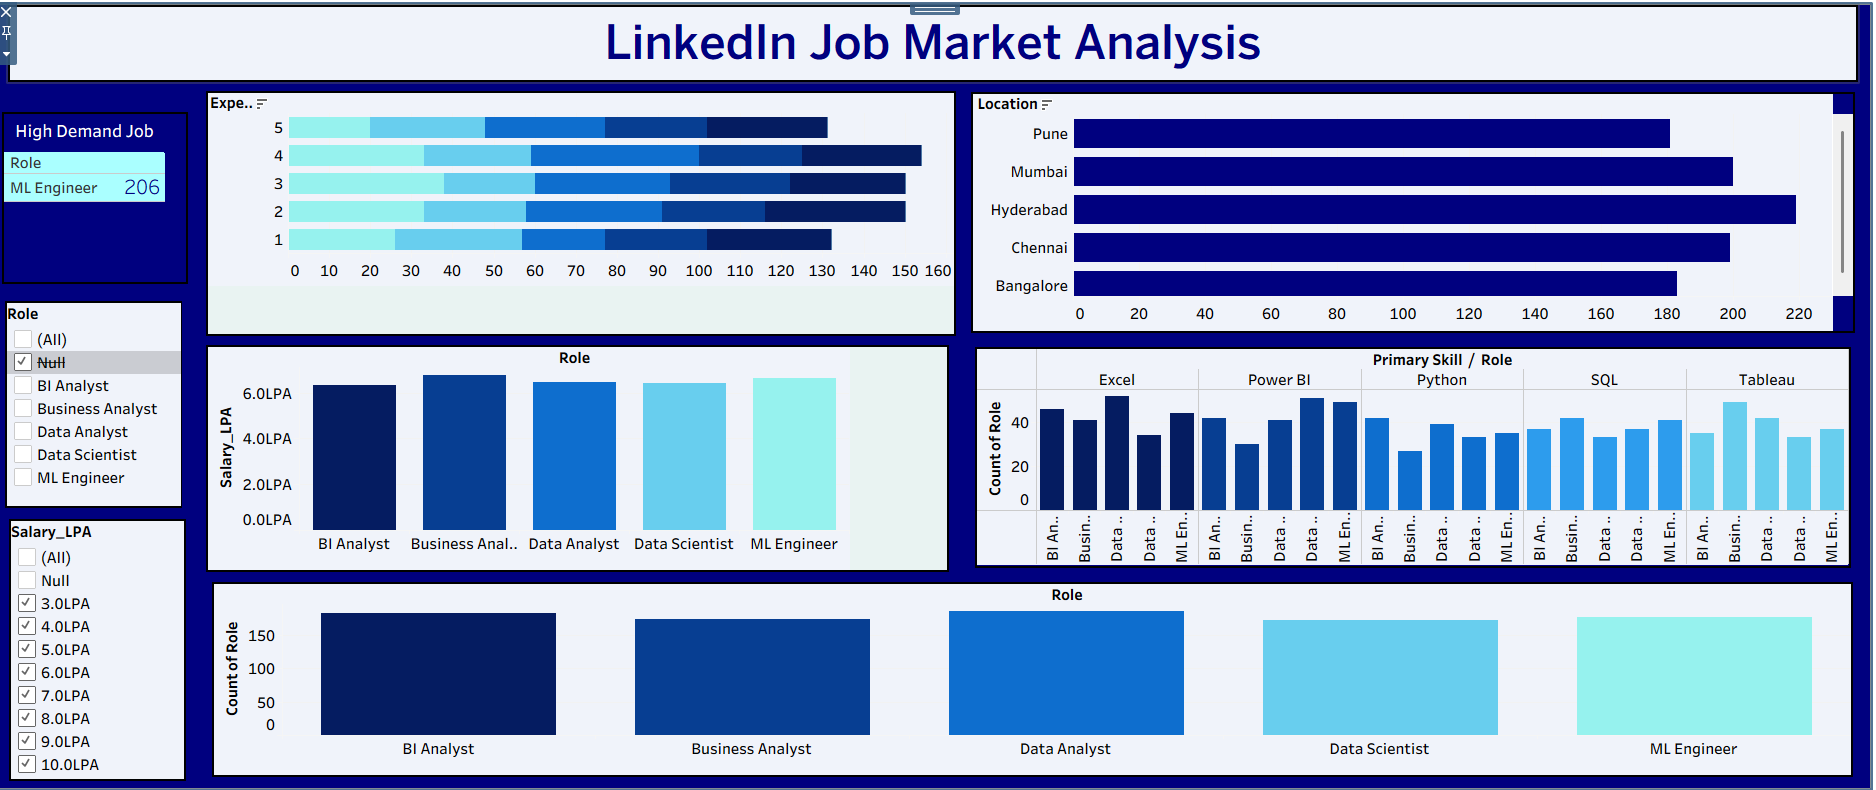

What the dashboard file says about the page in this screenshot:
{"tool":"tableau","page":{"name":"LinkedIn Job analysis","canvas":[1000,1000],"units":"permille","ordinal":0},"visuals":[{"type":"text","box":[9.1,11.2,980.1,96.1]},{"type":"worksheet","title":"experience","mark":"Automatic","rows":["Experience_Years"],"cols":["Role"],"box":[114.1,118.6,397.1,305.9]},{"type":"worksheet","title":"Job by Location","mark":"Automatic","rows":["Location"],"cols":["Role"],"box":[519,119.9,468.3,300.9]},{"type":"worksheet","title":"High Demand Job","mark":"Automatic","rows":["Role"],"box":[6,144.8,98.4,214.7]},{"type":"filter","title":"salary analysis","param":"[federated.0zxw8mb1uq540v154wqfb1ralrjb].[none:Role:nk]","box":[7.2,380.8,94.2,258.4]},{"type":"worksheet","title":"salary analysis","mark":"Automatic","rows":["Salary_LPA"],"cols":["Role"],"box":[114.1,435.7,393.5,283.4]},{"type":"worksheet","title":"Top Skills","mark":"Automatic","rows":["Role"],"cols":["Primary_Skill","Role"],"box":[521.4,438.2,464.1,275.9]},{"type":"filter","title":"Top job Roles","param":"[federated.0zxw8mb1uq540v154wqfb1ralrjb].[none:Salary_LPA:ok]","box":[9.7,652.9,93.5,327.1]},{"type":"worksheet","title":"Top job Roles","mark":"Automatic","rows":["Role"],"cols":["Role"],"box":[117.1,731.6,869,243.5]}]}

Visuals, with their boxes on the dashboard's canvas, which has no fixed pixel size, in thousandths of its width and height (x1, y1, x2, y2). These are canvas units, not pixel positions in the 1876x790 screenshot, which may show the page scaled, cropped or inside an application window:
text: (x1=9, y1=11, x2=989, y2=107)
"experience" worksheet: (x1=114, y1=119, x2=511, y2=424)
"Job by Location" worksheet: (x1=519, y1=120, x2=987, y2=421)
"High Demand Job" worksheet: (x1=6, y1=145, x2=104, y2=360)
"salary analysis" filter: (x1=7, y1=381, x2=101, y2=639)
"salary analysis" worksheet: (x1=114, y1=436, x2=508, y2=719)
"Top Skills" worksheet: (x1=521, y1=438, x2=986, y2=714)
"Top job Roles" filter: (x1=10, y1=653, x2=103, y2=980)
"Top job Roles" worksheet: (x1=117, y1=732, x2=986, y2=975)
